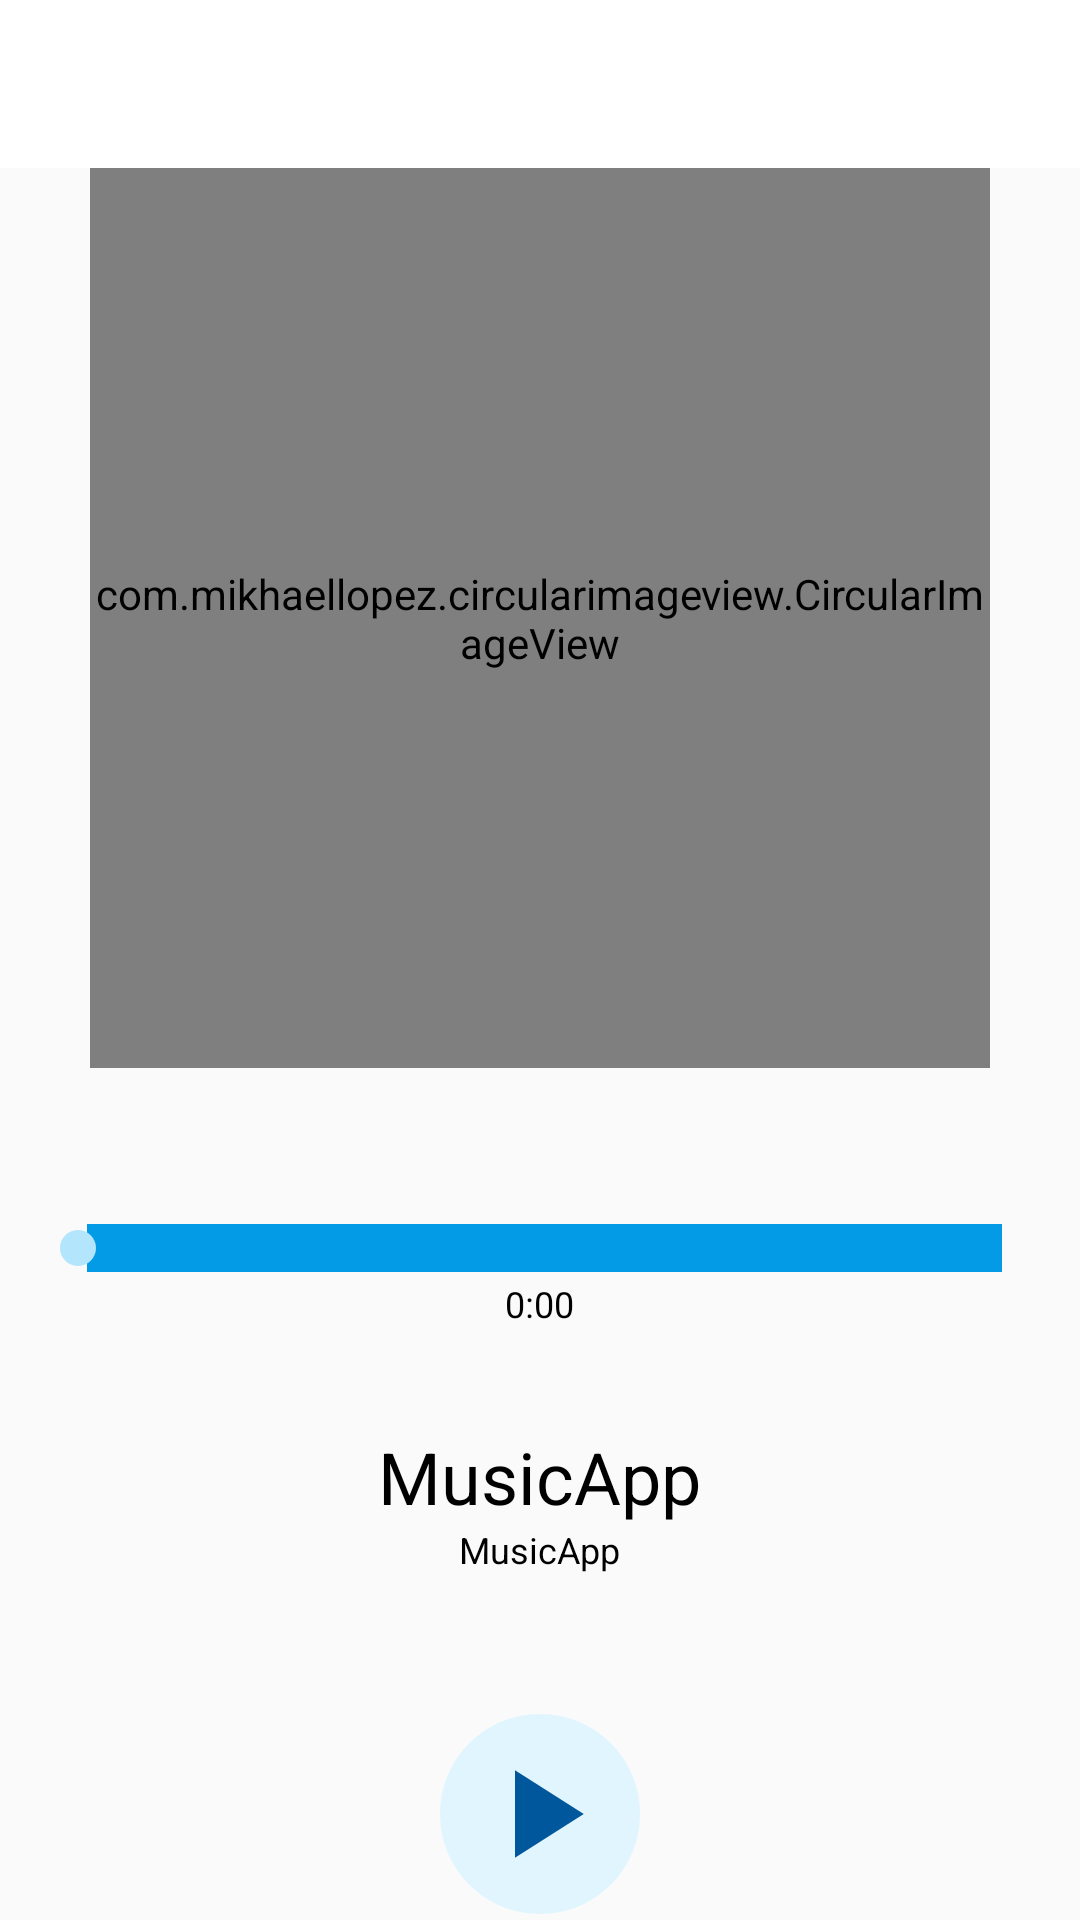

Icons on this 1080w x 1920h Android screen, each with the point to tap as (x=x, y=y):
play arrow: (x=549, y=1814)
